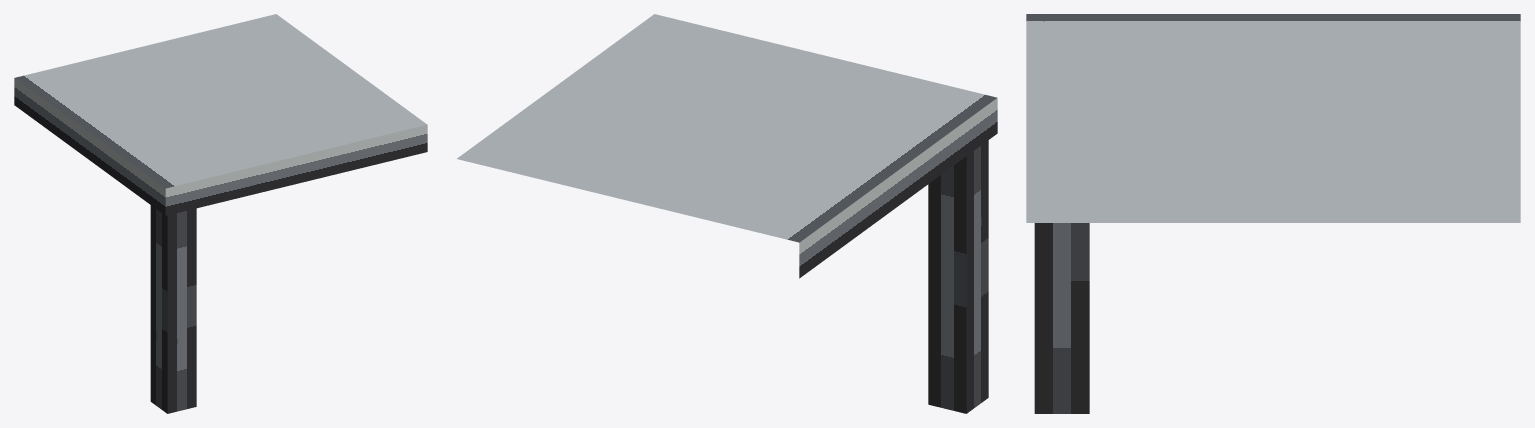
The model's file is table_corner_1leg.glb.
3 views of the same model, side by side, from view 1: azimuth 30°, elevation 25°; view 2: azimuth 150°, elevation 25°; view 3: azimuth 270°, elevation 25° (orthographic). The views are drawn at different scales.
Parts seen in each view (by area): view 1: table_corner_1leg; view 2: table_corner_1leg; view 3: table_corner_1leg.
Part boxes in pixels (x1,y1,x2,y2): table_corner_1leg: [14, 14, 427, 413]; table_corner_1leg: [457, 14, 997, 413]; table_corner_1leg: [1026, 14, 1520, 413].
Size of the model in its own units: 0.9 by 0.75 by 0.9.
1 material, 1 textured.
